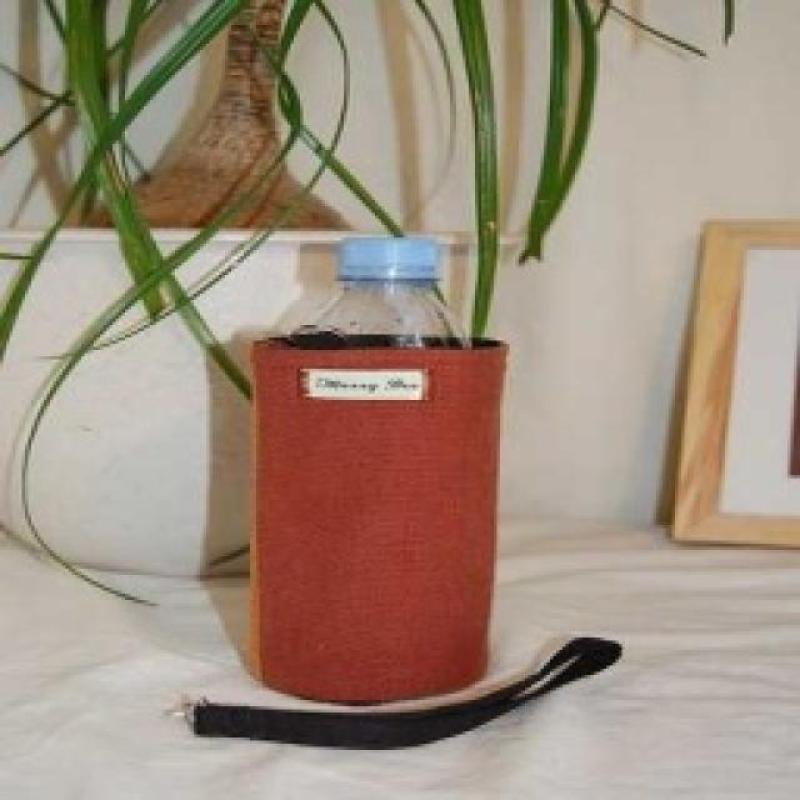botella: (284, 239, 485, 346)
